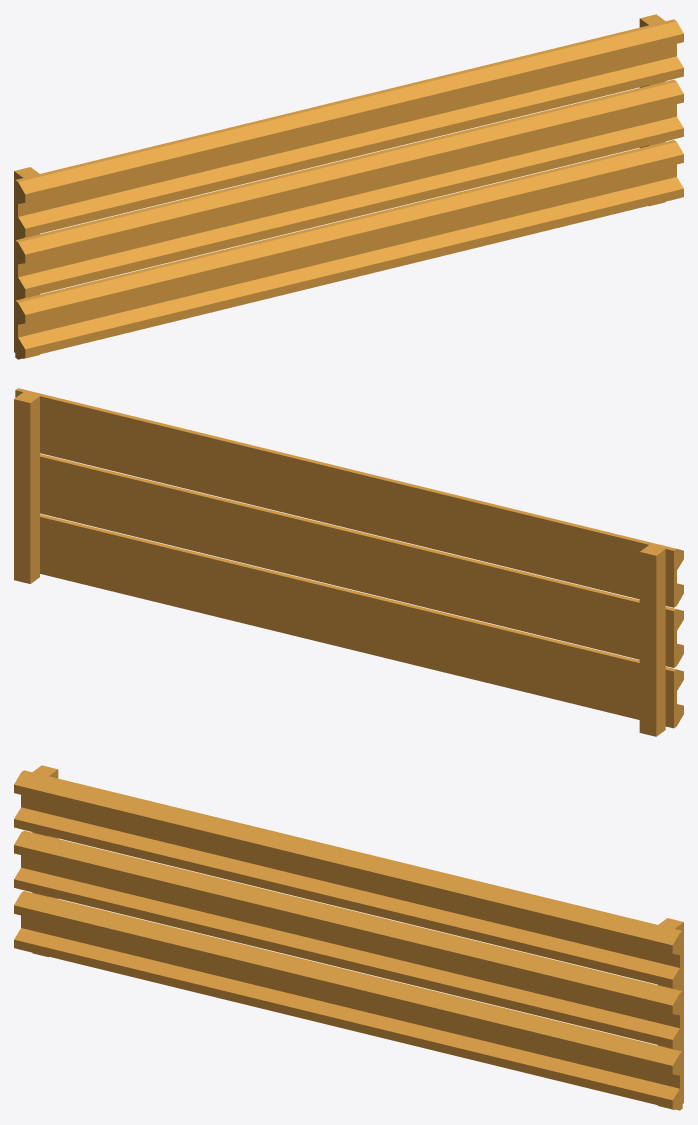
File: barrier-traffic.fbx
The picture shows the model from 3 angles, top to bottom: view 1: azimuth 30°, elevation 25°; view 2: azimuth 150°, elevation 25°; view 3: azimuth 330°, elevation 25°; orthographic projection.
Visible parts, largest first — view 1: barrier-traffic; view 2: barrier-traffic; view 3: barrier-traffic.
Part boxes in pixels (x1=…): barrier-traffic: x1=14, y1=14, x2=683, y2=359; barrier-traffic: x1=14, y1=388, x2=683, y2=736; barrier-traffic: x1=14, y1=765, x2=683, y2=1110.
Bounding box in the file's own units: 4 × 1.05 × 0.205.
